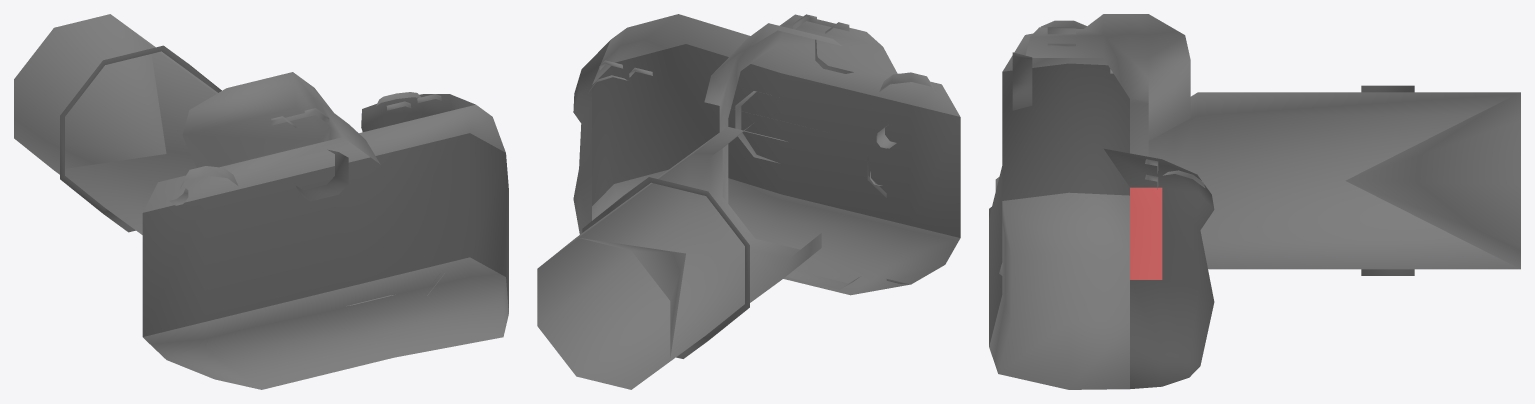
Rendered from ps2_save-icons_scandal-gamedata.glb.
The picture shows the model from 3 angles, left to right: view 1: azimuth 30°, elevation 25°; view 2: azimuth 150°, elevation 25°; view 3: azimuth 270°, elevation 25°; orthographic projection. The views are drawn at different scales.
Visible parts, largest first — view 1: nikon.ico; view 2: nikon.ico; view 3: nikon.ico.
Part boxes in pixels (x1,y1,x2,y2): nikon.ico: [14, 14, 508, 389]; nikon.ico: [537, 14, 960, 389]; nikon.ico: [989, 14, 1520, 389].
Size of the model in its own units: 3.61 by 2.5 by 4.7.
1 material, 1 textured.
